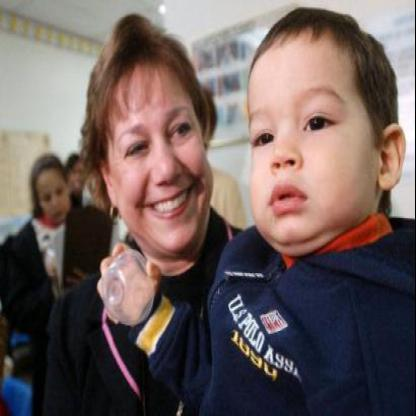face: (237, 15, 384, 260), (109, 37, 210, 262), (37, 157, 70, 227), (69, 155, 88, 198)
